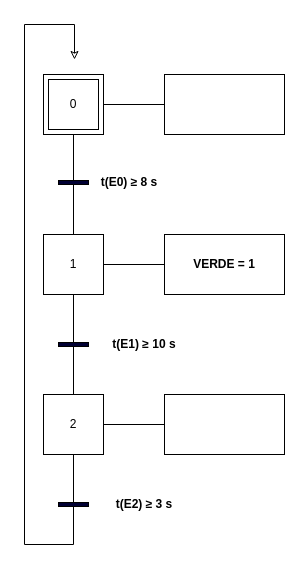
This 302x563 diagram has some shape labels left out. The shapes that lost their labels are listed below. From the top down, each one's box as (x1, y1, x2, y2) in pixels, then its label:
(164, 74, 284, 134): VERMELHO = 1
(164, 394, 284, 454): AMARELO = 1
